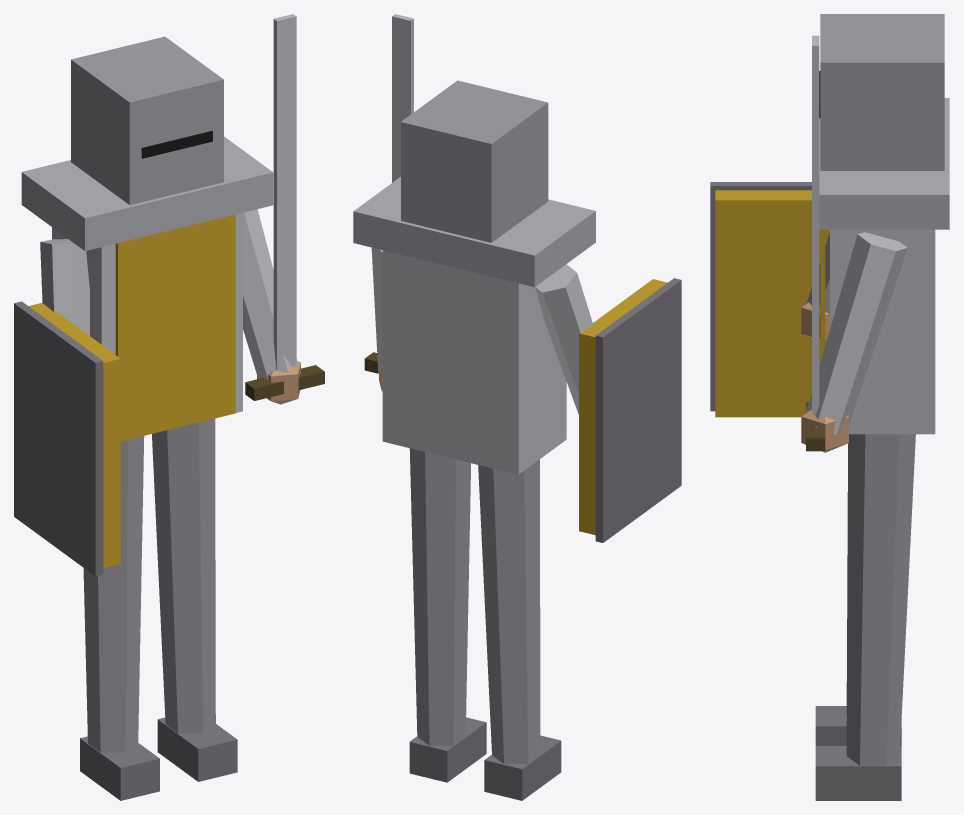
Rendered from ritter.glb.
3 views of the same model, side by side, from view 1: azimuth 30°, elevation 25°; view 2: azimuth 150°, elevation 25°; view 3: azimuth 270°, elevation 25° (orthographic). The views are drawn at different scales.
Size of the model in its own units: 0.7 by 1.81 by 0.5.
Materials: 1 (1 with a texture image).
